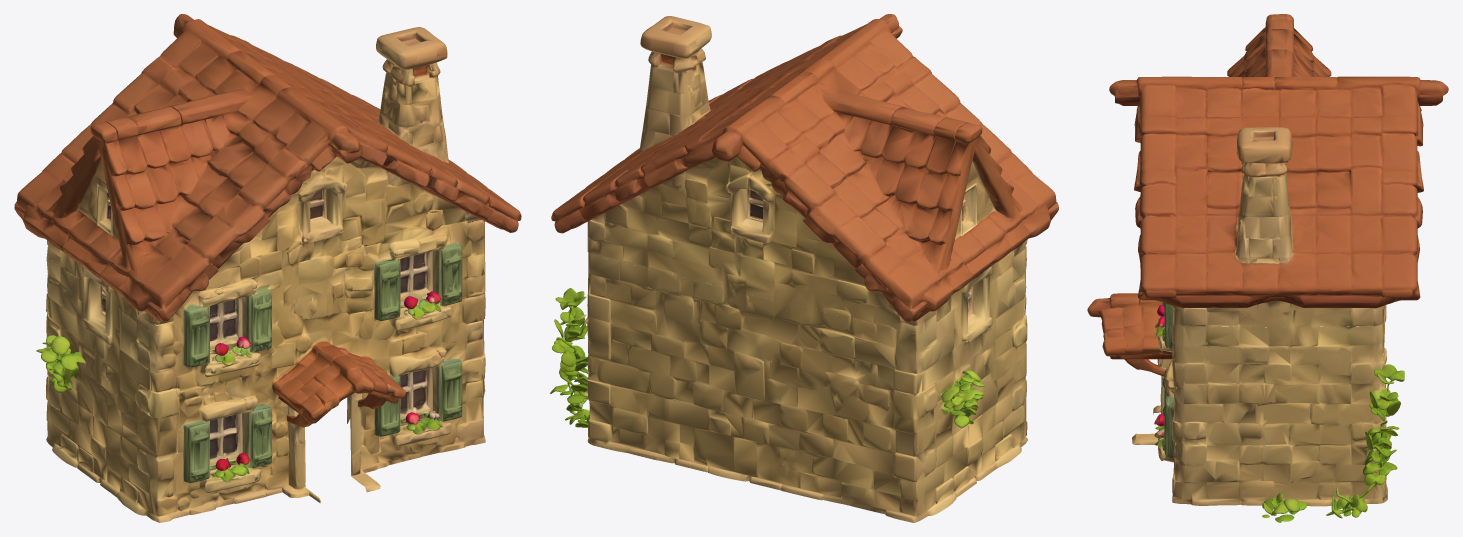
Rendered from maison-campagne.glb.
3 renders of one model, left to right at view 1: azimuth 30°, elevation 25°; view 2: azimuth 150°, elevation 25°; view 3: azimuth 270°, elevation 25°, orthographic. The views are drawn at different scales.
Visible parts, largest first — view 1: toit, etage, rez-sud, rez-ouest; view 2: toit, etage, rez-nord, rez-ouest, rez-est; view 3: toit, etage, rez-est, rez-sud, rez-nord.
Boxes of the visible parts, <box> form: toit: <box>14,14,521,333</box>; etage: <box>36,253,485,423</box>; rez-sud: <box>154,342,485,522</box>; rez-ouest: <box>46,345,156,520</box>; toit: <box>551,14,1058,333</box>; etage: <box>554,254,1027,423</box>; rez-nord: <box>550,337,919,522</box>; rez-ouest: <box>917,344,1026,520</box>; rez-est: <box>564,346,589,427</box>; toit: <box>1109,14,1448,327</box>; etage: <box>1087,293,1404,420</box>; rez-est: <box>1175,410,1397,522</box>; rez-sud: <box>1126,359,1179,503</box>; rez-nord: <box>1351,305,1399,517</box>.
Bounding box in the file's own units: 10.78 × 9.47 × 8.72.
1 material, 1 textured.
